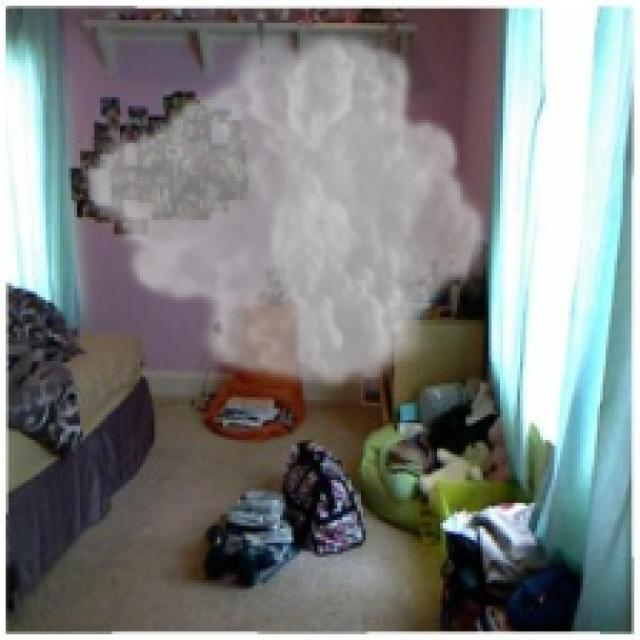Smoke: (77, 22, 492, 398)
